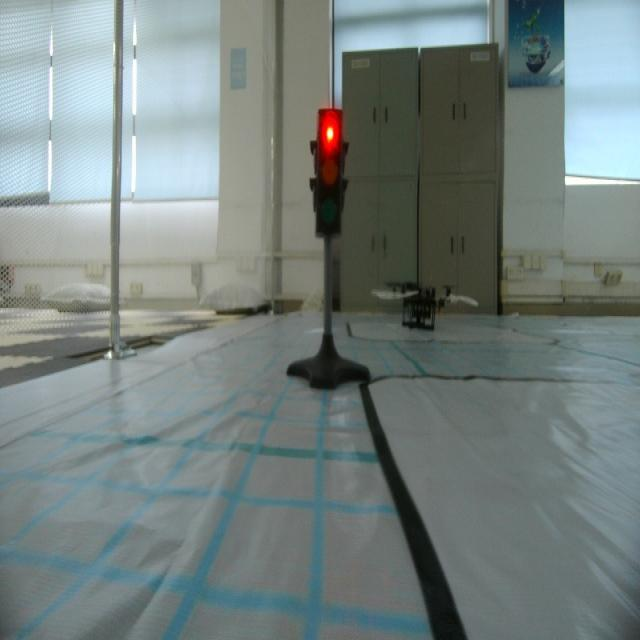red: (308, 108, 350, 243)
